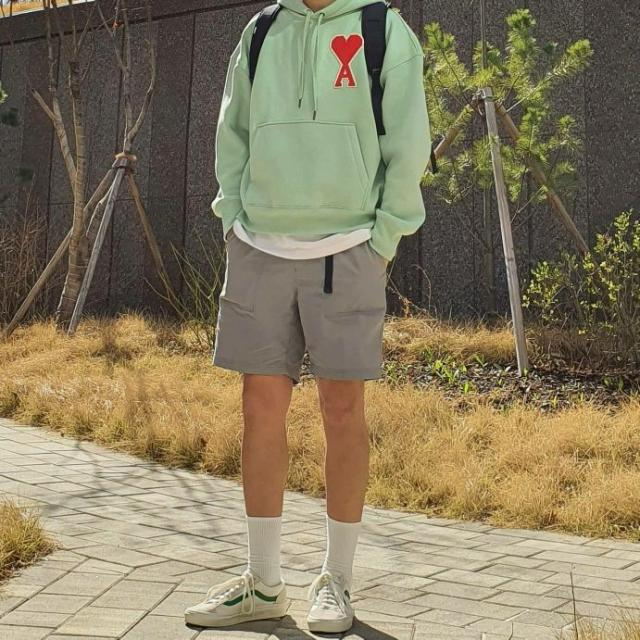hoodies: (212, 0, 430, 258)
shortpants: (211, 226, 389, 380)
